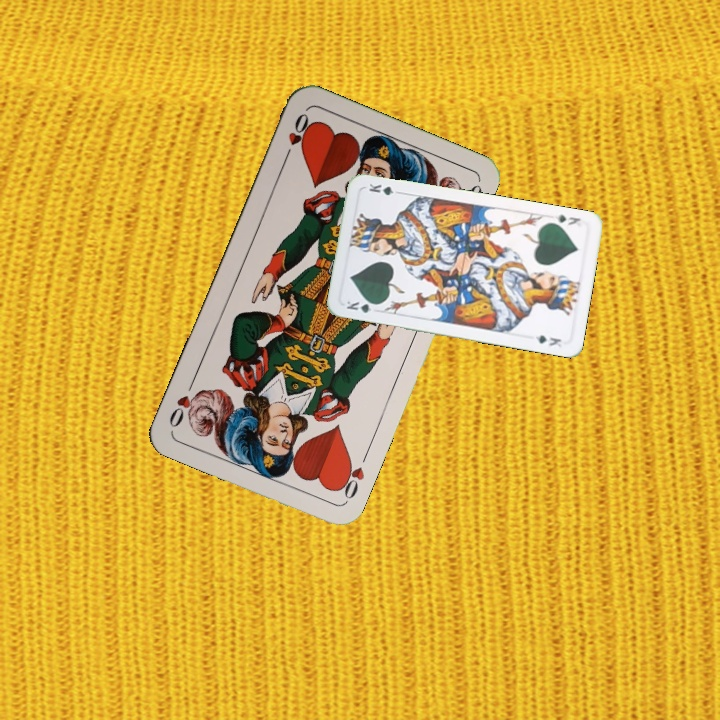GK: (342, 297, 382, 316), (550, 210, 583, 229)
HO: (333, 447, 371, 504), (279, 109, 314, 164)
